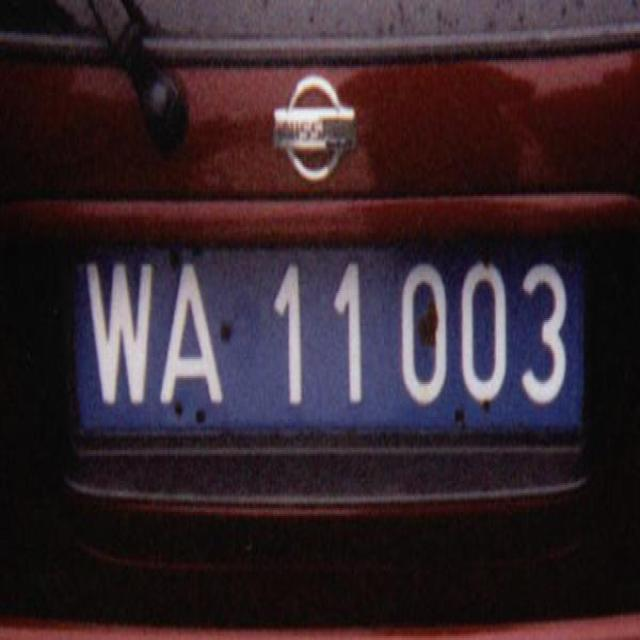pl_license_plate: (78, 248, 581, 427)
